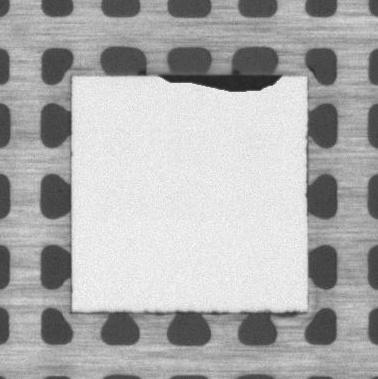DIE_BROKEN: (157, 70, 284, 93)
